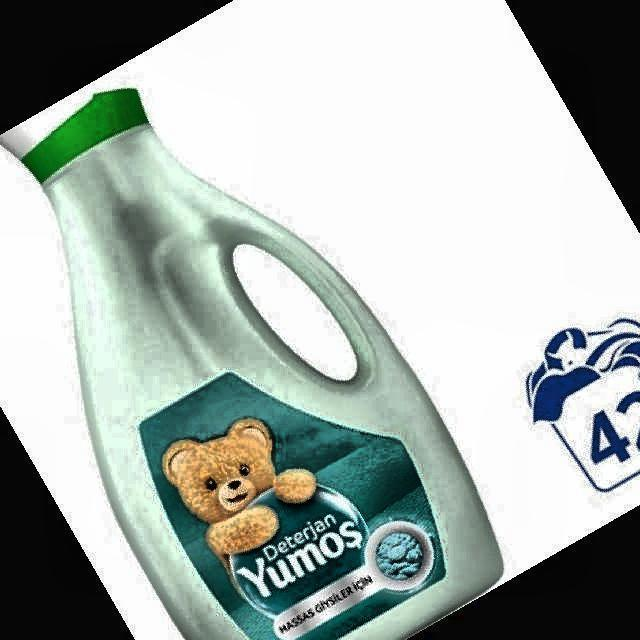plastic: (0, 89, 502, 640)
